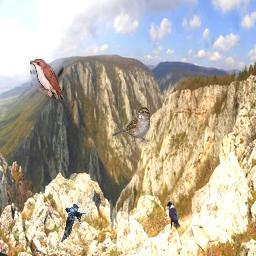Crow: (167, 201, 180, 229)
Cuckoo: (30, 59, 64, 99)
Sparrow: (112, 107, 150, 147)
Swallow: (60, 203, 88, 243)
